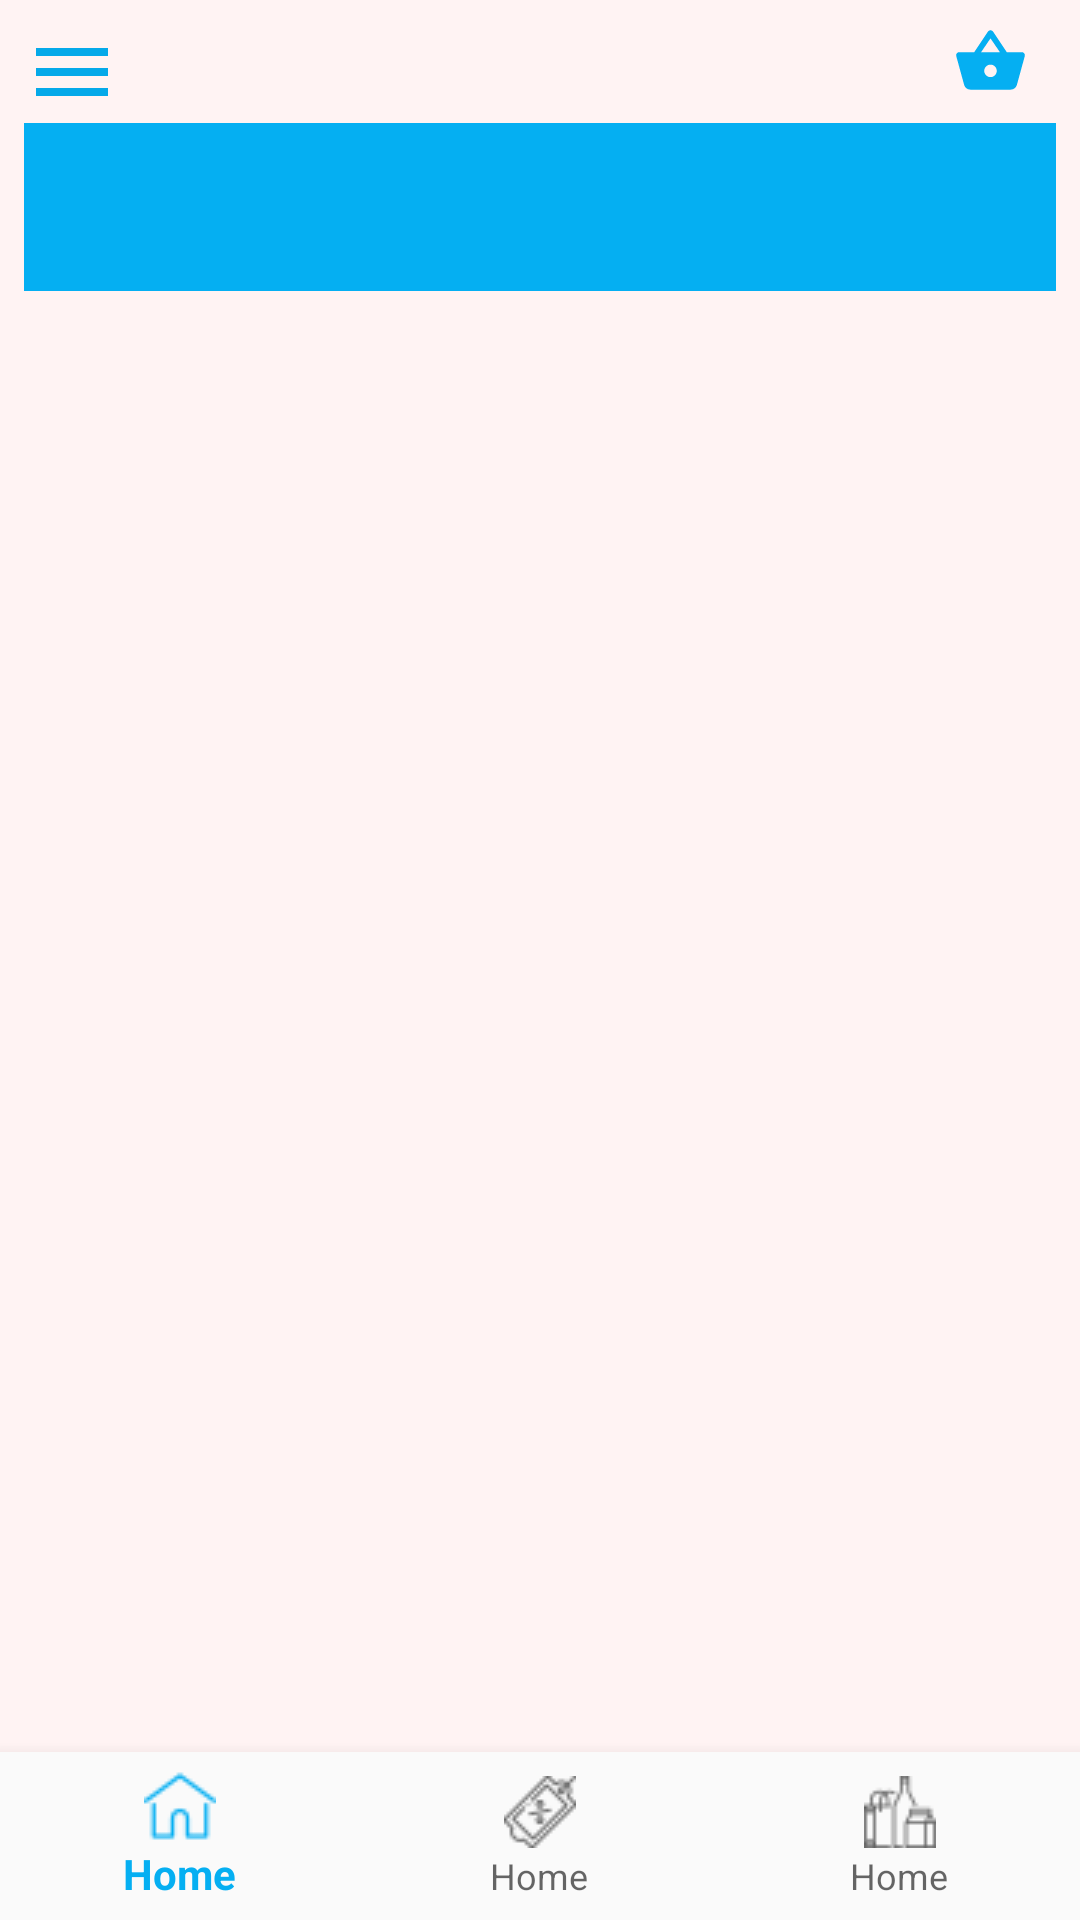

Icons on this 1080 x 1920 Android screen, each with the point to tap as point (x, y):
menu: point (72, 72)
shopping basket: point (990, 60)
